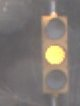Yellow: (35, 7, 75, 97)
